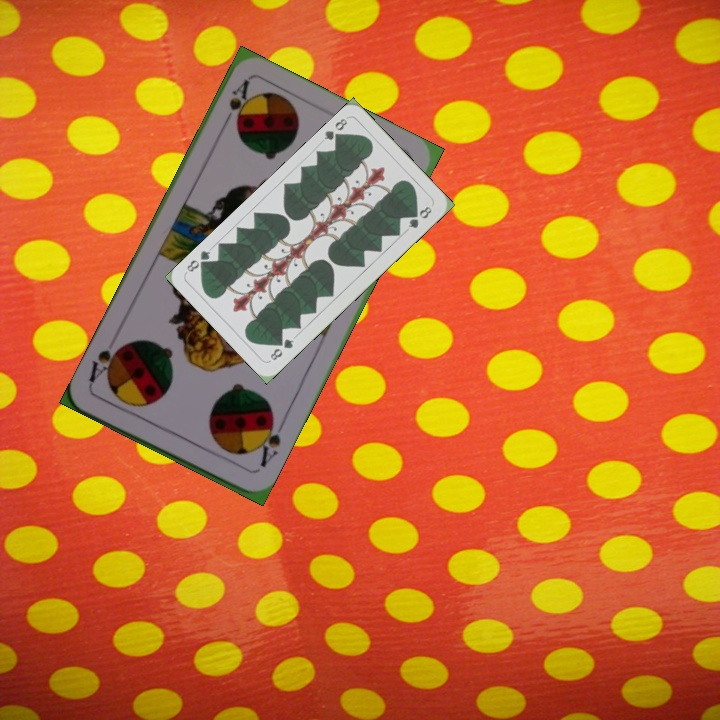G8: (320, 113, 350, 145), (266, 335, 297, 363)
SA: (217, 76, 253, 131), (251, 415, 286, 470)
